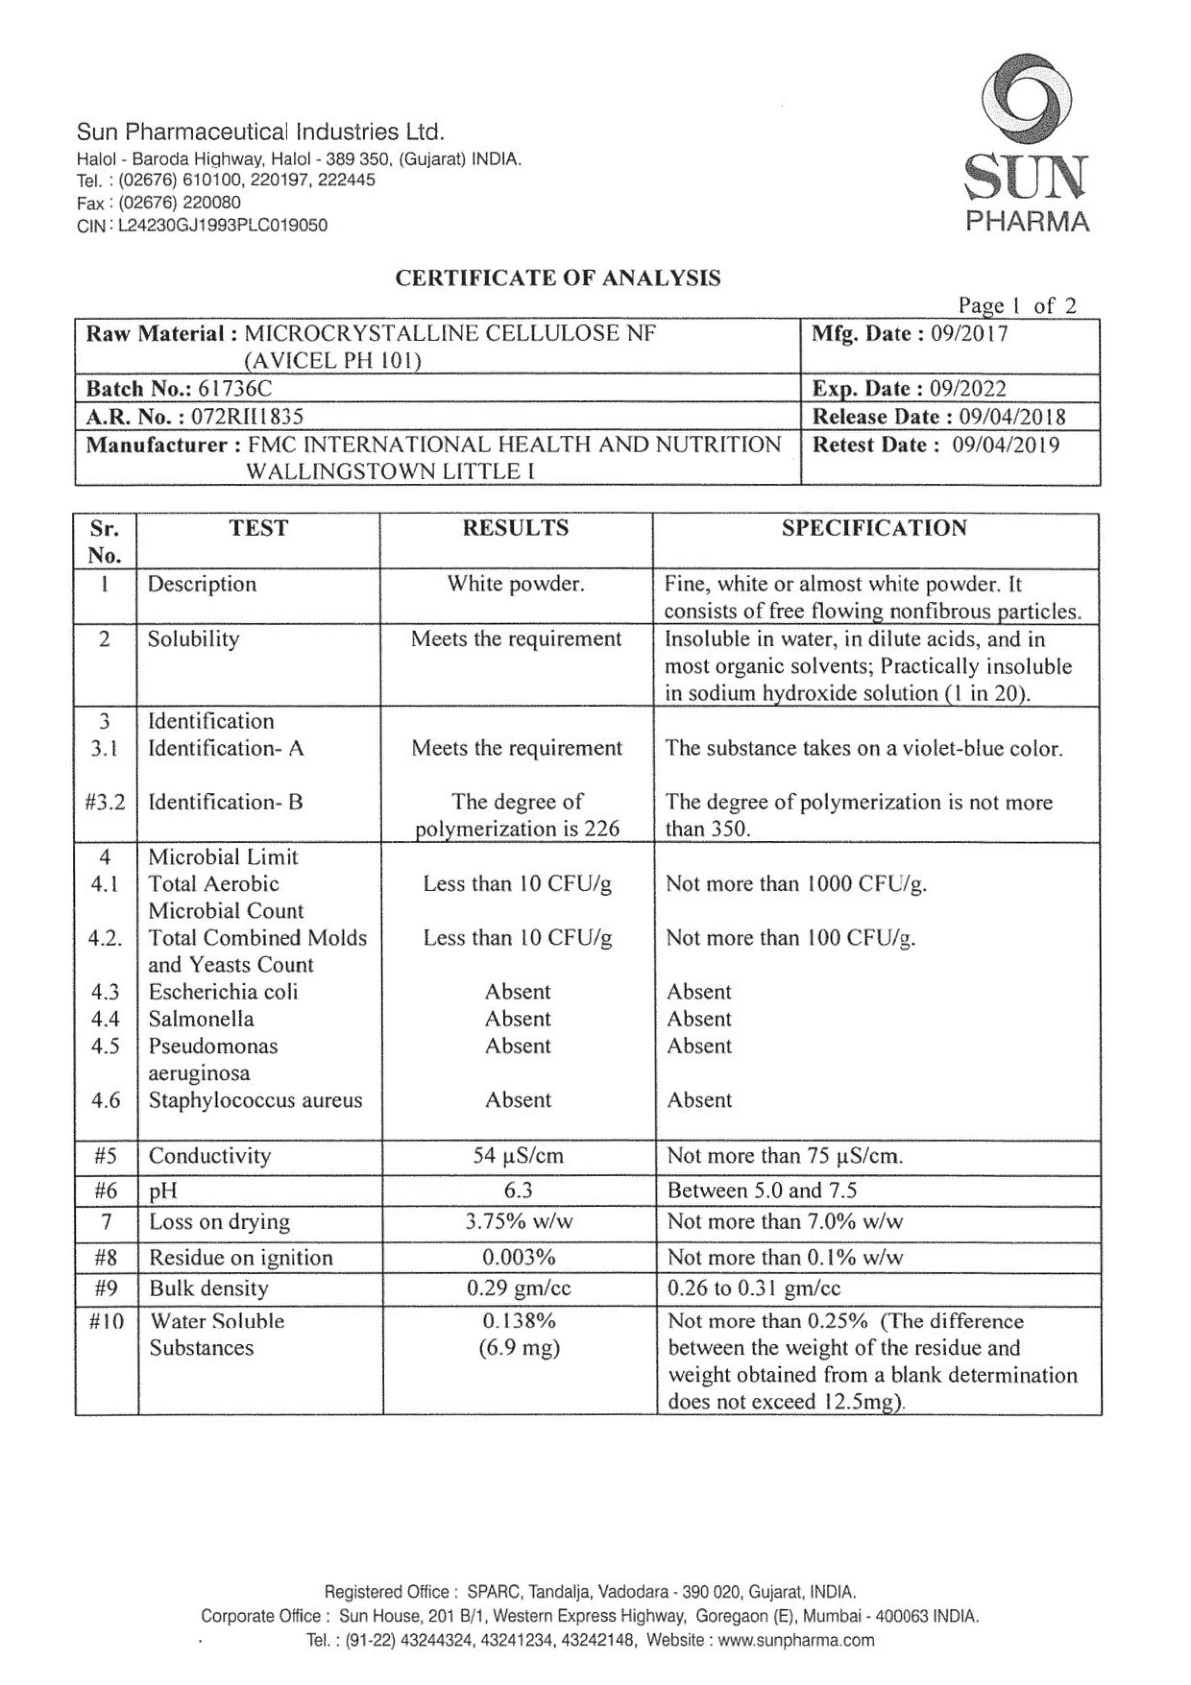full_lined: (72, 511, 1105, 1418), (72, 317, 1102, 489)
